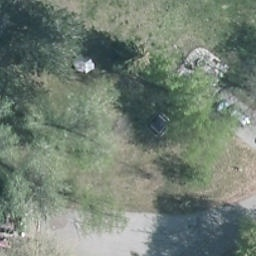car: (213, 100, 254, 130)
pickup: (145, 95, 190, 140)
